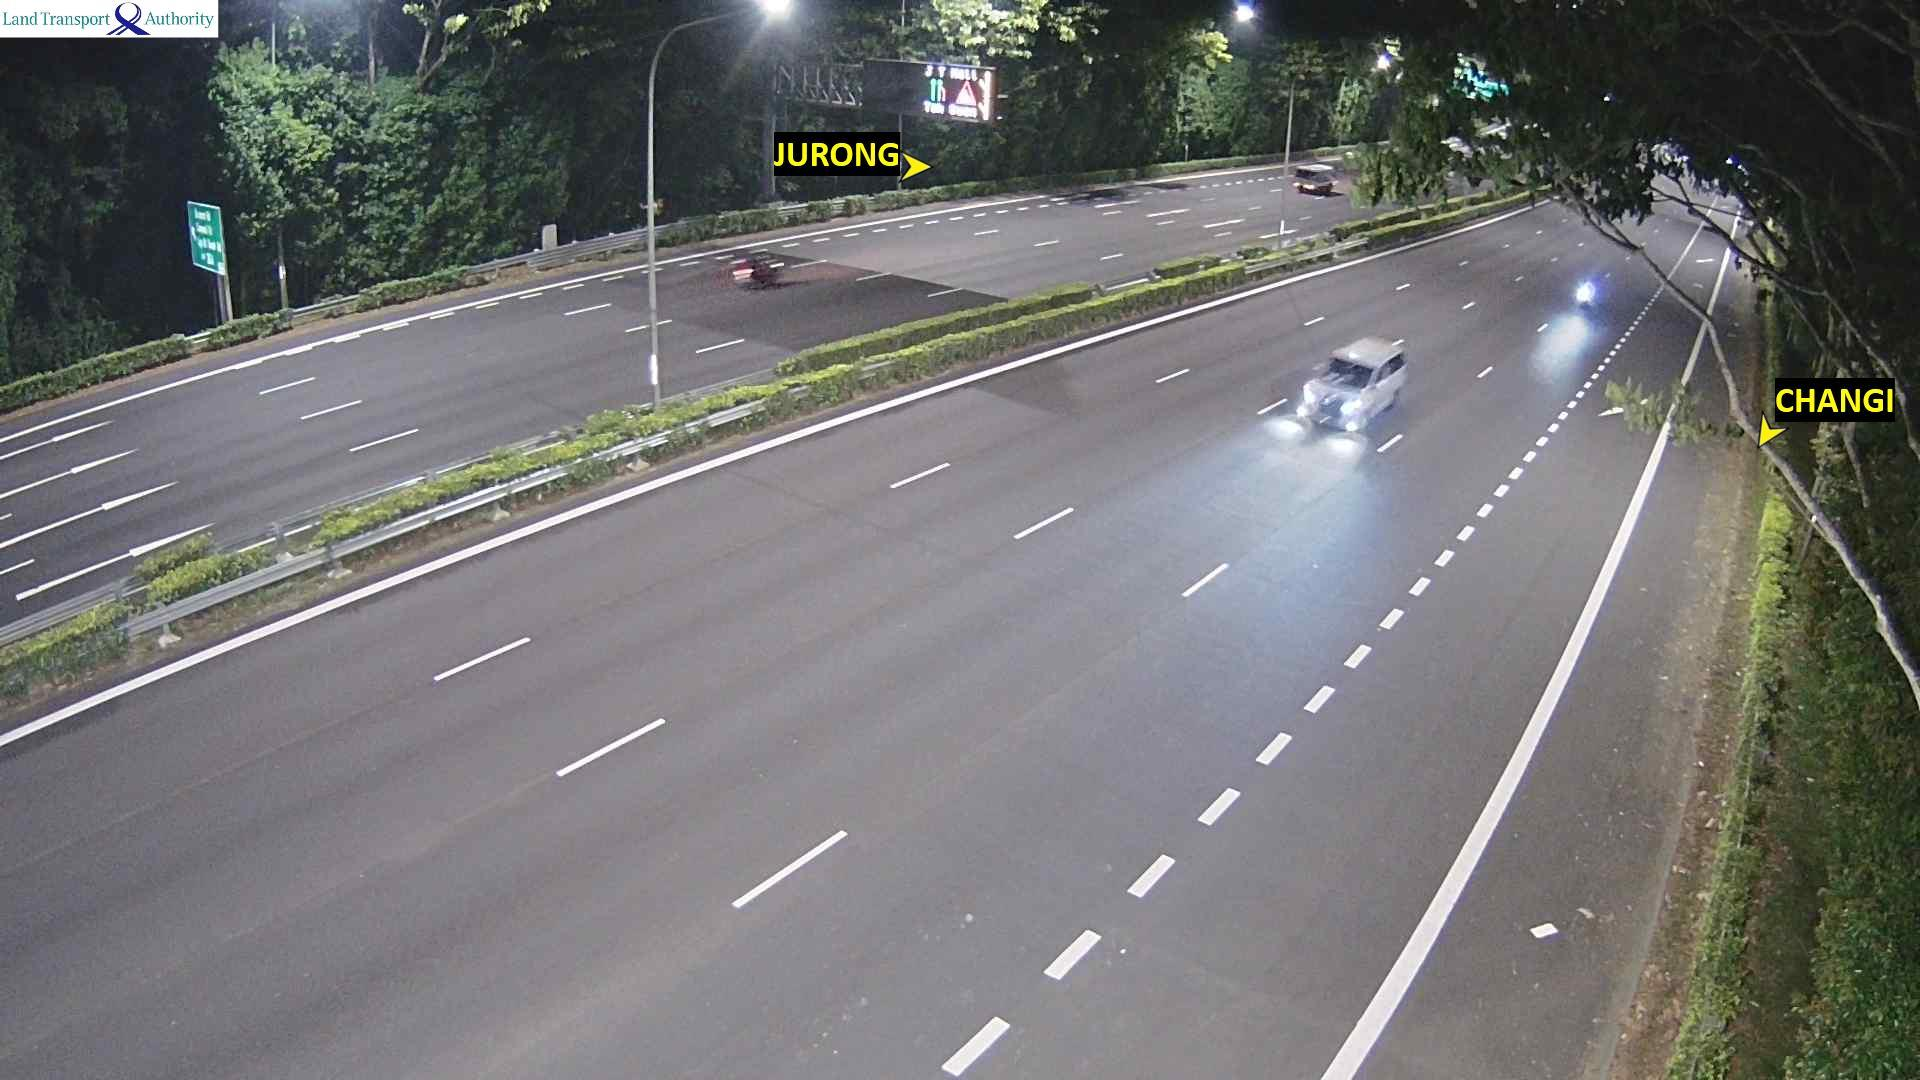cars: (1298, 334, 1408, 433), (729, 253, 781, 287), (1650, 140, 1692, 177), (1294, 162, 1337, 195), (1573, 280, 1596, 307)
